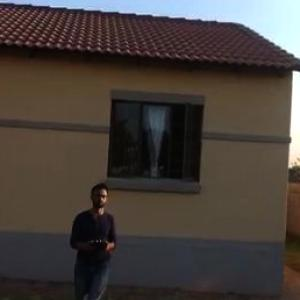follow: (66, 179, 129, 299)
